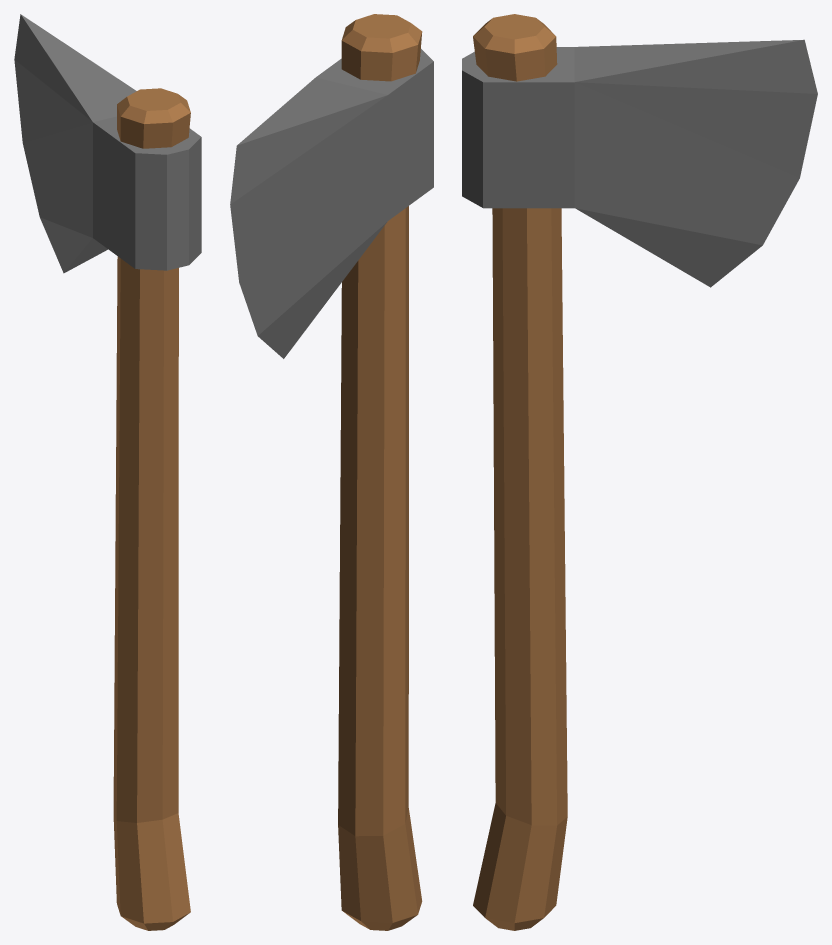
Rendered from melee-axe.glb.
3 renders of one model, left to right at view 1: azimuth 30°, elevation 25°; view 2: azimuth 150°, elevation 25°; view 3: azimuth 270°, elevation 25°, orthographic. The views are drawn at different scales.
Visible parts, largest first — view 1: Hache; view 2: Hache; view 3: Hache.
Part boxes in pixels (<box>): Hache: <box>14,14,201,930</box>; Hache: <box>230,14,433,930</box>; Hache: <box>462,14,817,930</box>.
Size of the model in its own units: 62.4 by 738 by 266.
